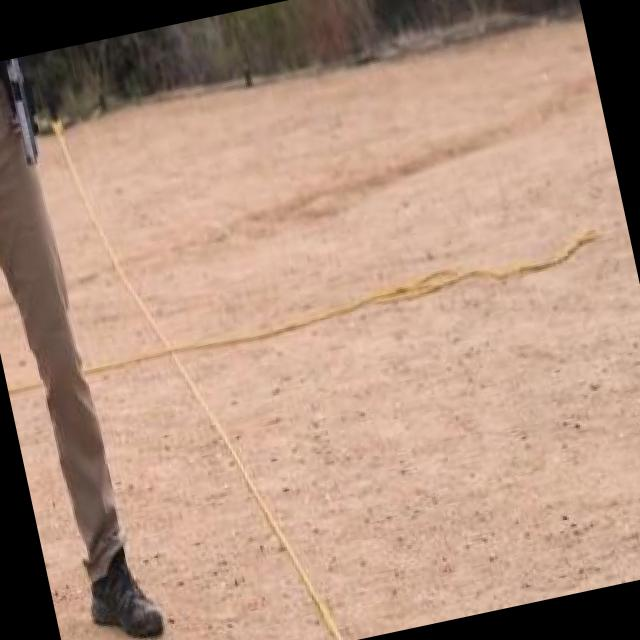Guns: (0, 51, 67, 176)
